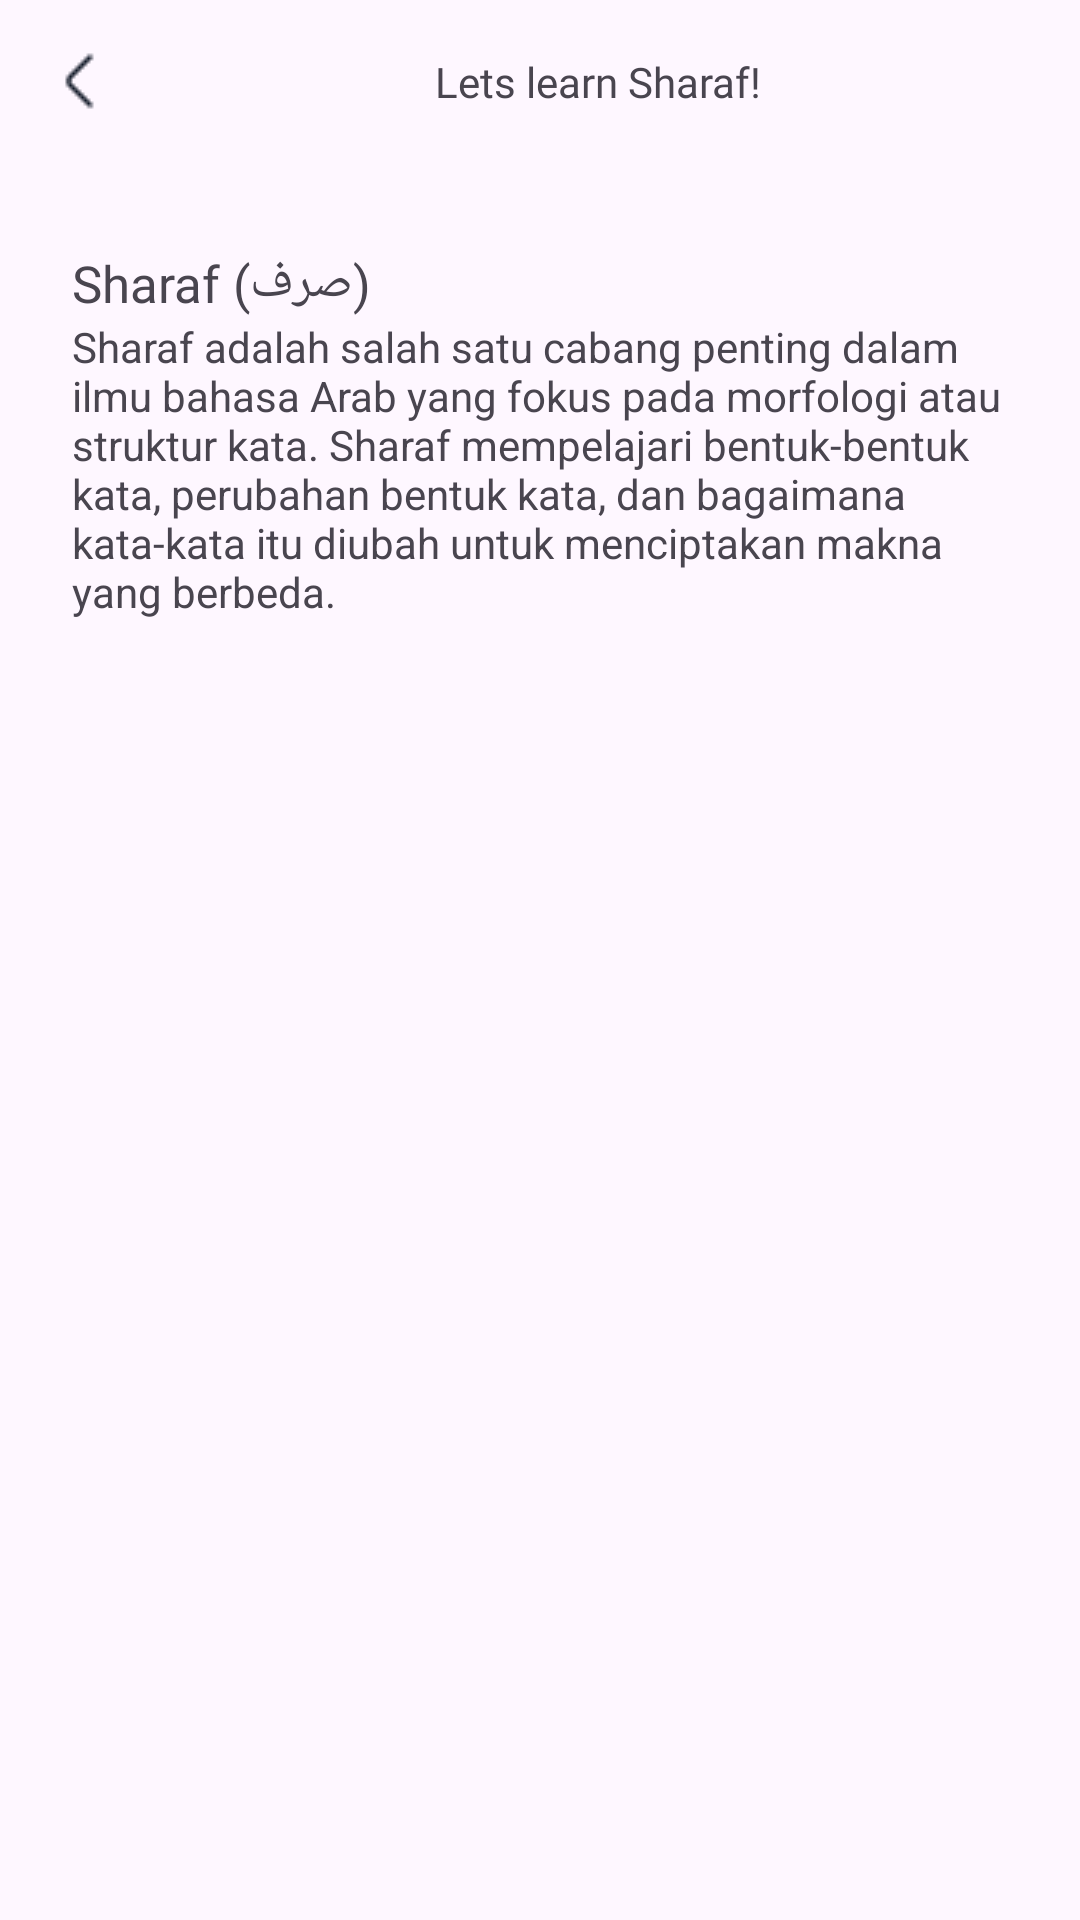

Icons on this 1080px×1920px Android screen, each with the point to tap as (x,y):
back: (79,81)
